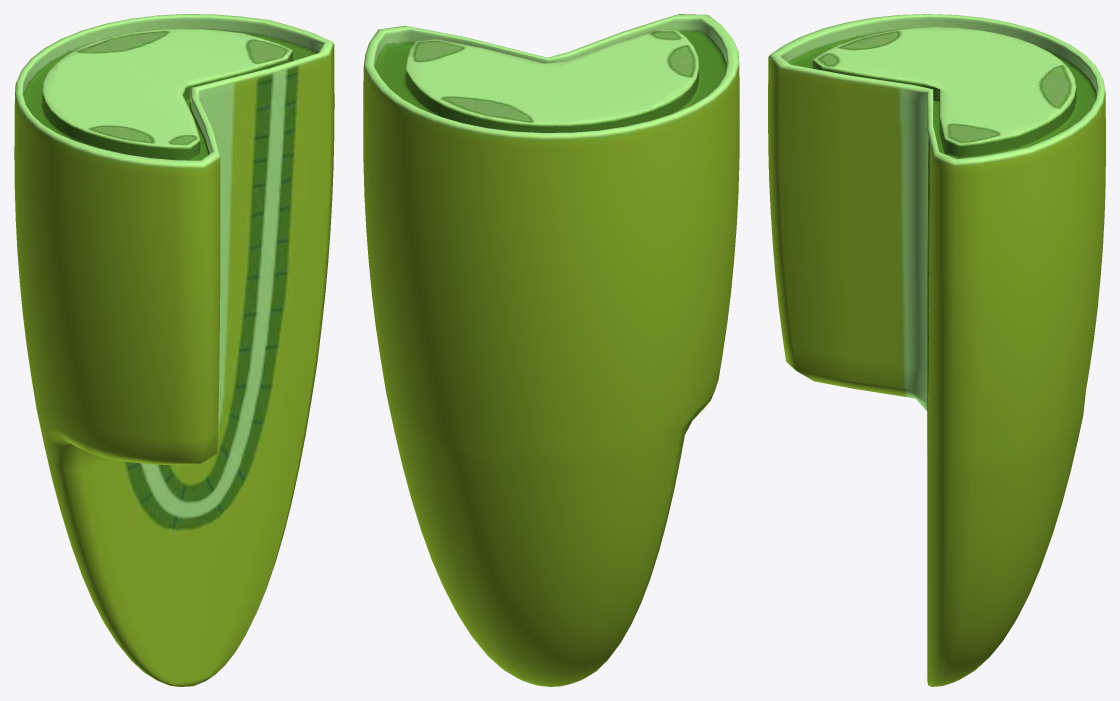
File: stem.glb
3 views of the same model, side by side, from view 1: azimuth 30°, elevation 25°; view 2: azimuth 150°, elevation 25°; view 3: azimuth 270°, elevation 25° (orthographic). The views are drawn at different scales.
Parts seen in each view (by area): view 1: pSphere1; view 2: pSphere1; view 3: pSphere1.
Boxes of the visible parts, <box> form: pSphere1: <box>14,14,334,686</box>; pSphere1: <box>363,14,739,686</box>; pSphere1: <box>768,14,1105,686</box>.
Size of the model in its own units: 0.1018 by 0.1876 by 0.0968.
1 material, 1 textured.
